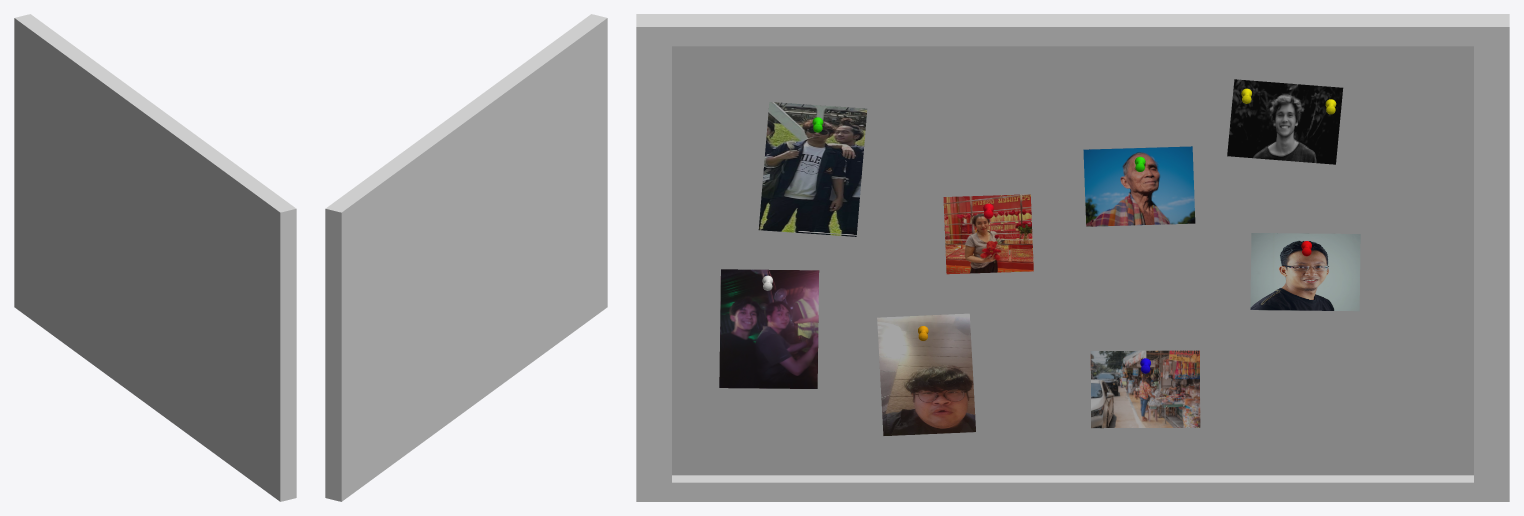
File: BOard.fbx
3 renders of one model, left to right at view 1: azimuth 30°, elevation 25°; view 2: azimuth 150°, elevation 25°; view 3: azimuth 270°, elevation 25°, orthographic. The views are drawn at different scales.
Visible parts, largest first — view 1: Cube; view 2: Cube; view 3: Cube, Plane, Plane.006, Plane.001, Plane.003, Plane.004, Plane.002, Plane.007, Plane.005.
Boxes of the visible parts, box(x1,y1,x2,y2) form: Cube: box(14, 14, 296, 501); Cube: box(325, 14, 607, 501); Cube: box(636, 14, 1509, 501); Plane: box(758, 102, 867, 236); Plane.006: box(719, 269, 819, 388); Plane.001: box(877, 313, 975, 436); Plane.003: box(1083, 146, 1195, 226); Plane.004: box(1250, 233, 1360, 311); Plane.002: box(1090, 350, 1200, 428); Plane.007: box(1227, 79, 1343, 164); Plane.005: box(943, 194, 1033, 274).
Size of the model in its own units: 60.52 by 960 by 1600.
